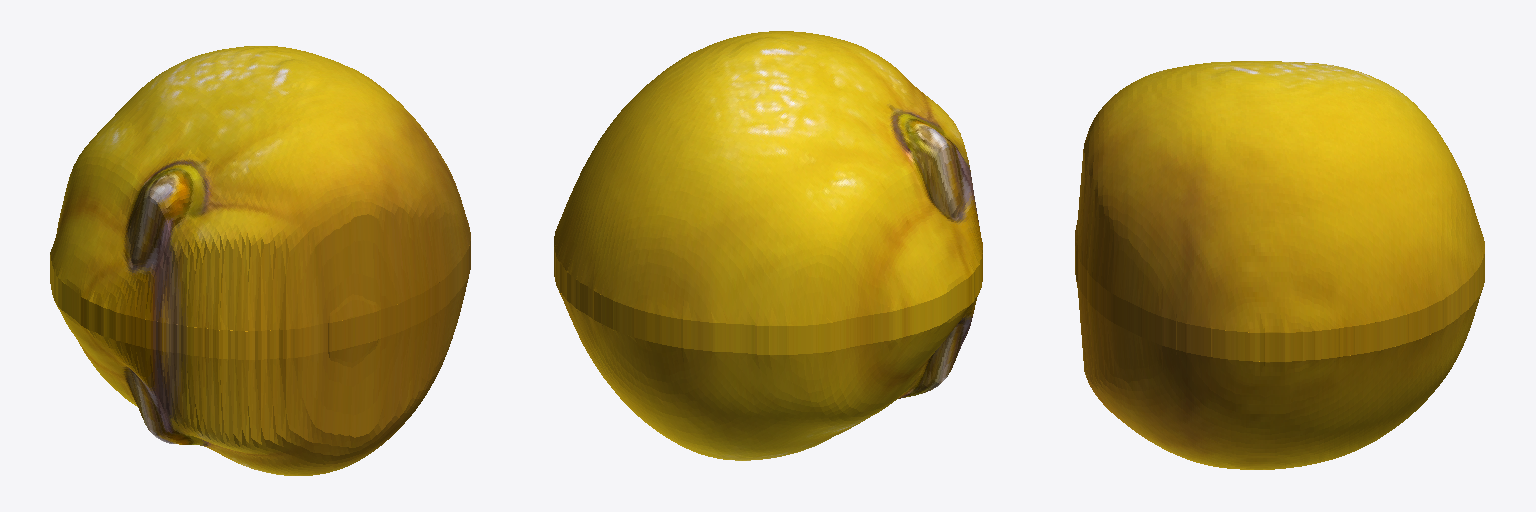
3 views of the same model, side by side, from view 1: azimuth 30°, elevation 25°; view 2: azimuth 150°, elevation 25°; view 3: azimuth 270°, elevation 25° (orthographic).
Parts seen in each view (by area): view 1: Grid; view 2: Grid; view 3: Grid.
Part boxes in pixels (x1,y1,x2,y2): Grid: (50, 46, 470, 475); Grid: (554, 31, 982, 460); Grid: (1075, 61, 1484, 469).
Bounding box in the file's own units: 1.64 × 1.6 × 1.56.
1 materials, 1 textured.